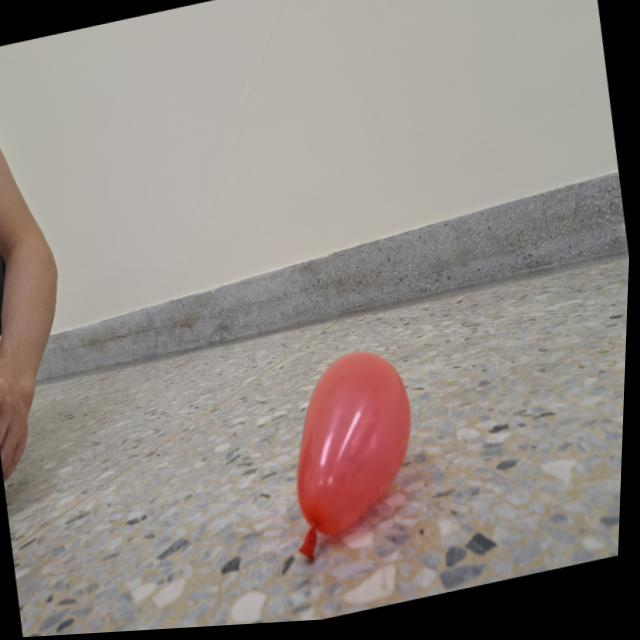red: (271, 345, 436, 570)
